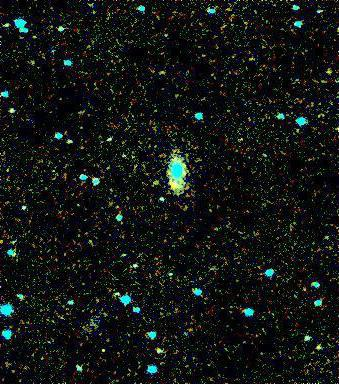star: (158, 169, 188, 199)
